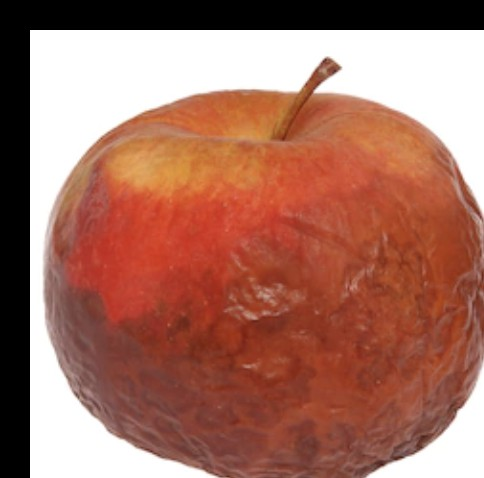rotten_apple: (39, 88, 484, 478)
